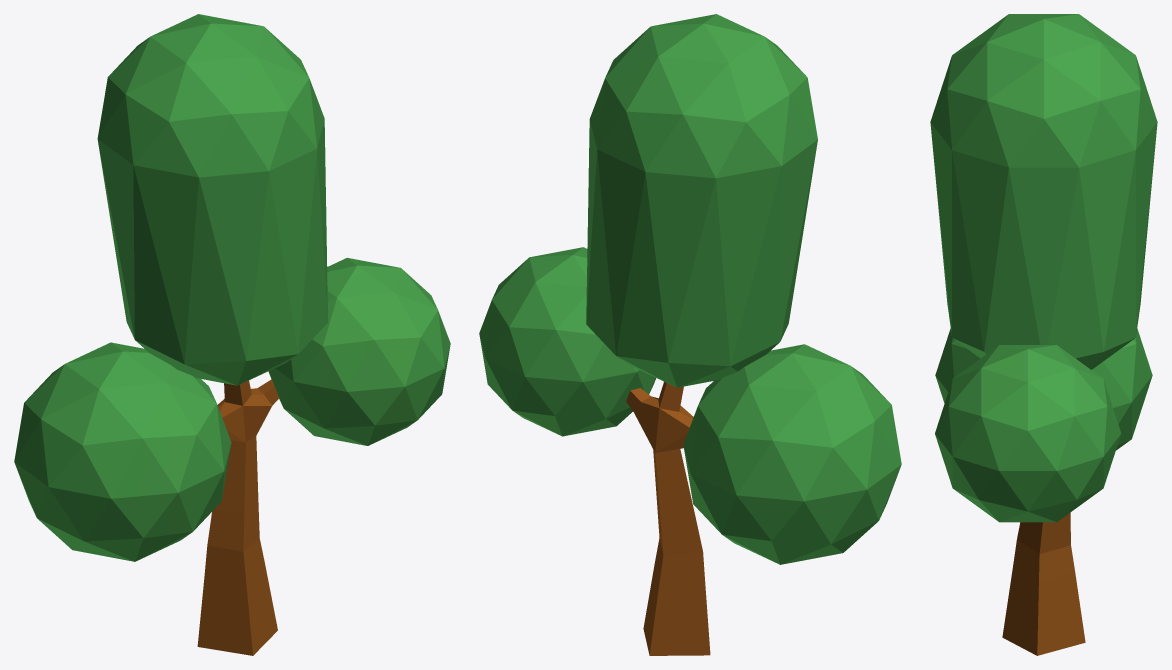
Rendered from Tree_16.fbx.
The picture shows the model from 3 angles, left to right: view 1: azimuth 30°, elevation 25°; view 2: azimuth 150°, elevation 25°; view 3: azimuth 270°, elevation 25°; orthographic projection. The views are drawn at different scales.
Parts seen in each view (by area): view 1: Tree_16; view 2: Tree_16; view 3: Tree_16.
Boxes of the visible parts, <box> form: Tree_16: <box>14,14,450,655</box>; Tree_16: <box>479,14,901,655</box>; Tree_16: <box>930,14,1157,655</box>.
Size of the model in its own units: 1768 by 2657 by 897.
